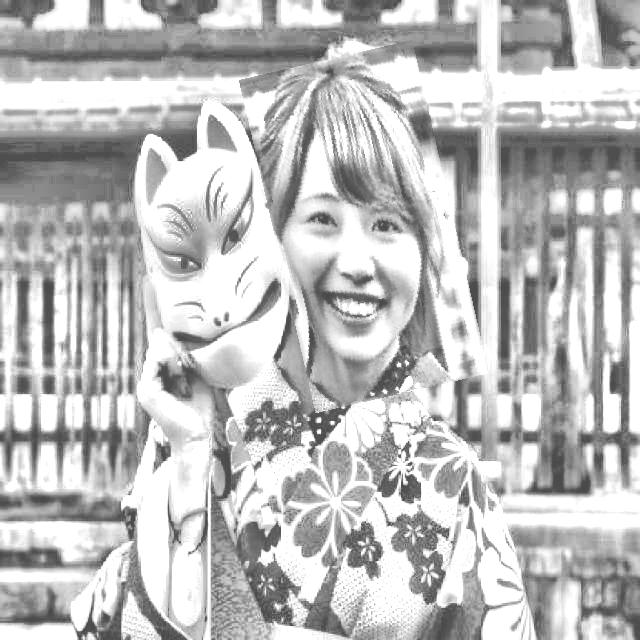happy: (257, 48, 471, 406)
